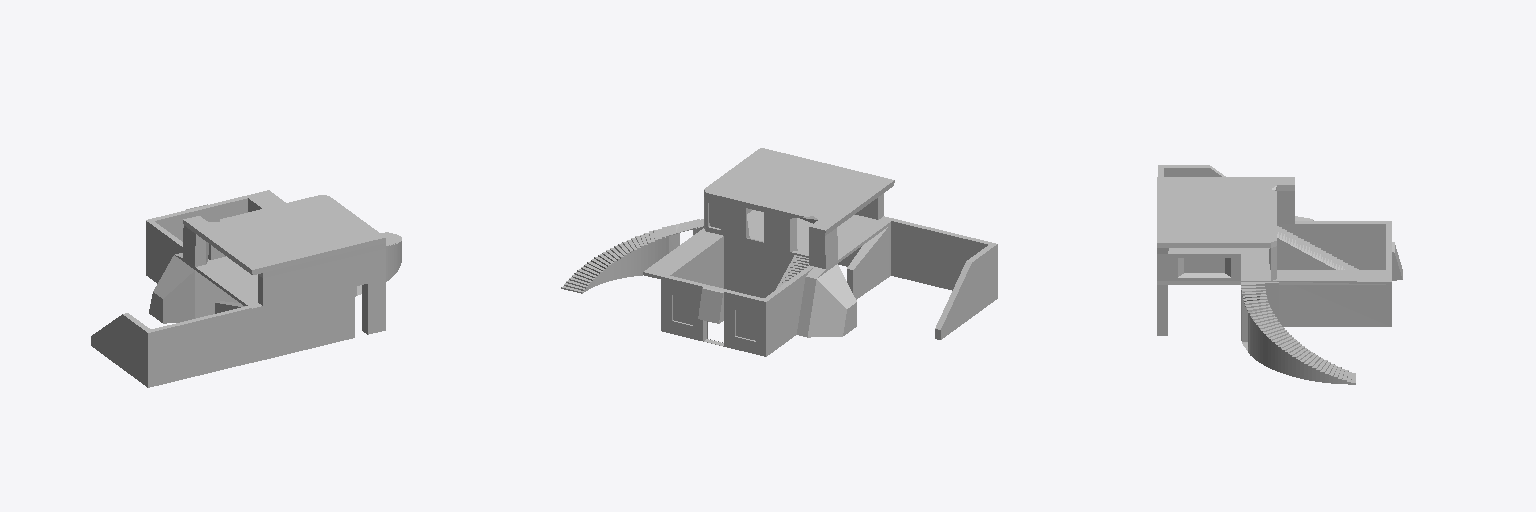
File: House v03.obj
The picture shows the model from 3 angles: view 1: azimuth 30°, elevation 25°; view 2: azimuth 150°, elevation 25°; view 3: azimuth 270°, elevation 25°; orthographic projection.
Parts seen in each view (by area): view 1: House v03; view 2: House v03; view 3: House v03.
Boxes of the visible parts, <box> form: House v03: <box>91,190,401,387</box>; House v03: <box>561,148,997,356</box>; House v03: <box>1157,165,1402,384</box>.
Size of the model in its own units: 32.19 by 8.53 by 20.29.